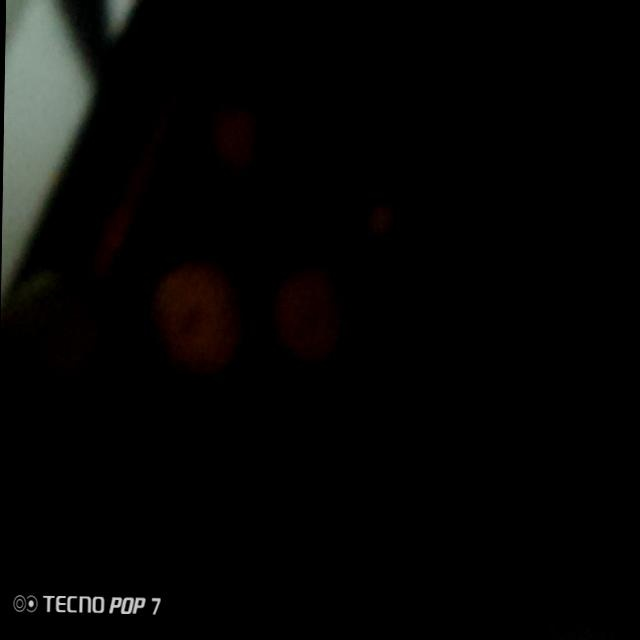agrume: (5, 258, 114, 422), (143, 254, 248, 389), (269, 261, 355, 380), (193, 93, 274, 181)
